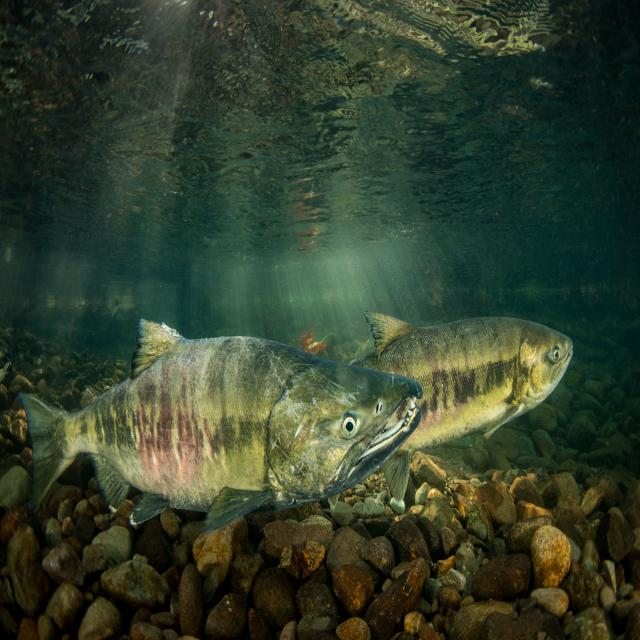salmon: (10, 322, 423, 575), (285, 286, 583, 487)
